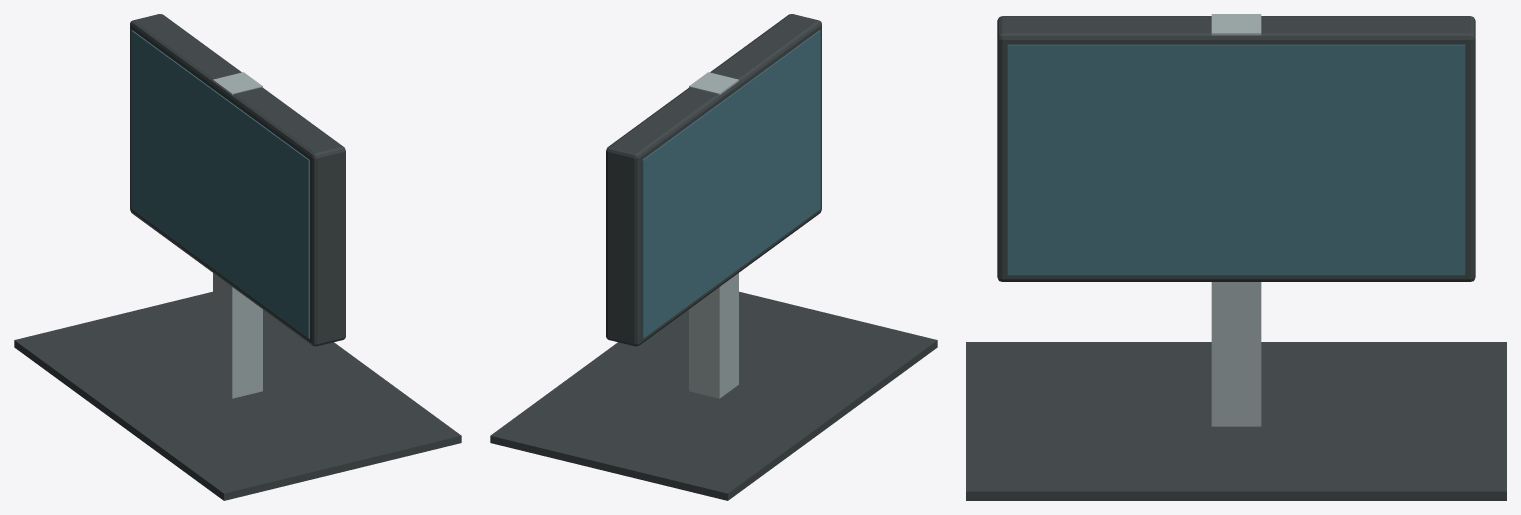
File: display.glb
3 renders of one model, left to right at view 1: azimuth 30°, elevation 25°; view 2: azimuth 150°, elevation 25°; view 3: azimuth 270°, elevation 25°, orthographic. The views are drawn at different scales.
Parts seen in each view (by area): view 1: display_fixture_Powder-coated graphite, display_fixture_Pack blue, display_fixture_Brushed stainless; view 2: display_fixture_Powder-coated graphite, display_fixture_Pack blue, display_fixture_Brushed stainless; view 3: display_fixture_Pack blue, display_fixture_Powder-coated graphite, display_fixture_Brushed stainless.
Boxes of the visible parts, bbox=[...] form: display_fixture_Powder-coated graphite: bbox=[14, 14, 461, 500]; display_fixture_Pack blue: bbox=[131, 30, 309, 338]; display_fixture_Brushed stainless: bbox=[213, 72, 262, 398]; display_fixture_Powder-coated graphite: bbox=[490, 14, 937, 500]; display_fixture_Pack blue: bbox=[642, 30, 820, 338]; display_fixture_Brushed stainless: bbox=[689, 72, 738, 398]; display_fixture_Pack blue: bbox=[1007, 44, 1465, 275]; display_fixture_Powder-coated graphite: bbox=[966, 16, 1506, 500]; display_fixture_Brushed stainless: bbox=[1211, 14, 1261, 426].
Size of the model in its own units: 1.7 by 2.13 by 2.6.
